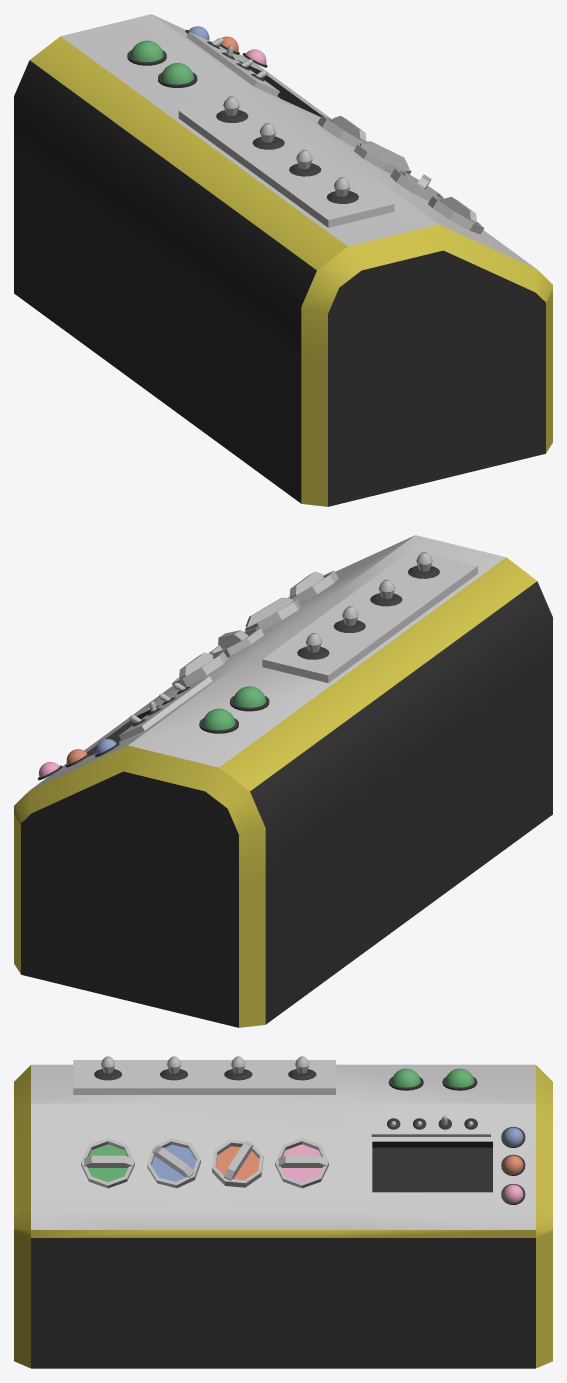
The model's file is control panel no lever.fbx.
3 views of the same model, one above another, from view 1: azimuth 30°, elevation 25°; view 2: azimuth 150°, elevation 25°; view 3: azimuth 270°, elevation 25° (orthographic). The views are drawn at different scales.
Visible parts, largest first — view 1: CONTROL_PANEL_NO_LEVER:pCube5, CONTROL_PANEL_NO_LEVER:pCylinder4, CONTROL_PANEL_NO_LEVER:pasted__pasted__pasted__pCylinder4, CONTROL_PANEL_NO_LEVER:pasted__pasted__pCylinder4; view 2: CONTROL_PANEL_NO_LEVER:pCube5, CONTROL_PANEL_NO_LEVER:pCylinder4, CONTROL_PANEL_NO_LEVER:pasted__pasted__pasted__pCylinder4, CONTROL_PANEL_NO_LEVER:pasted__pasted__pCylinder4; view 3: CONTROL_PANEL_NO_LEVER:pCube5, CONTROL_PANEL_NO_LEVER:pCylinder4, CONTROL_PANEL_NO_LEVER:pasted__pasted__pasted__pCylinder4 (×3), CONTROL_PANEL_NO_LEVER:pasted__pasted__pCylinder4 (×2).
Boxes of the visible parts, x1,y1,x2,y2 form: CONTROL_PANEL_NO_LEVER:pCube5: (14, 14, 552, 506); CONTROL_PANEL_NO_LEVER:pCylinder4: (317, 115, 484, 234); CONTROL_PANEL_NO_LEVER:pasted__pasted__pasted__pCylinder4: (127, 40, 166, 65); CONTROL_PANEL_NO_LEVER:pasted__pasted__pCylinder4: (158, 63, 197, 87); CONTROL_PANEL_NO_LEVER:pCube5: (14, 535, 552, 1027); CONTROL_PANEL_NO_LEVER:pCylinder4: (172, 570, 338, 689); CONTROL_PANEL_NO_LEVER:pasted__pasted__pasted__pCylinder4: (199, 708, 238, 733); CONTROL_PANEL_NO_LEVER:pasted__pasted__pCylinder4: (230, 686, 269, 711); CONTROL_PANEL_NO_LEVER:pCube5: (14, 1060, 552, 1368); CONTROL_PANEL_NO_LEVER:pCylinder4: (81, 1138, 328, 1188); CONTROL_PANEL_NO_LEVER:pasted__pasted__pasted__pCylinder4 (×3): (442, 1068, 525, 1204); CONTROL_PANEL_NO_LEVER:pasted__pasted__pCylinder4 (×2): (388, 1068, 525, 1175).
Size of the model in its own units: 3.06 by 3.17 by 6.47.
